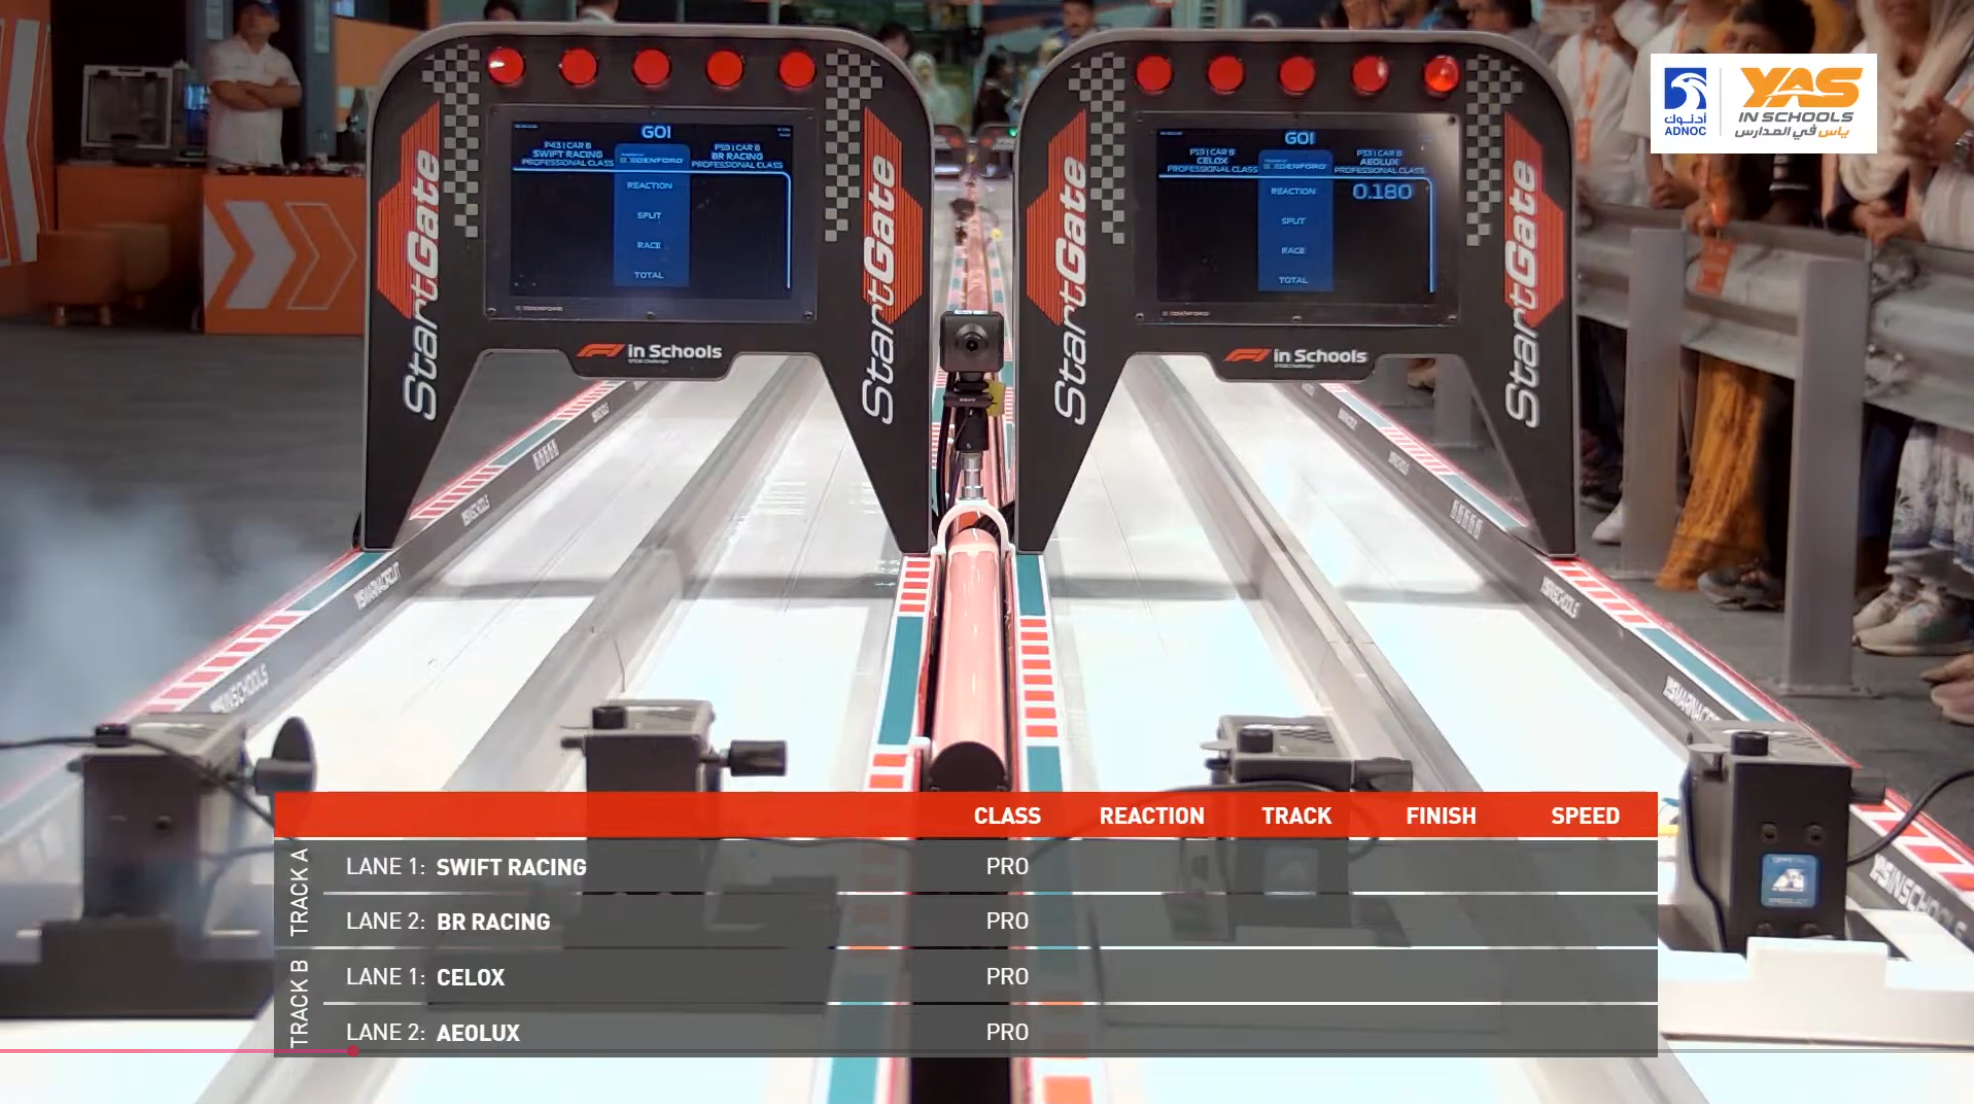Start: (365, 23, 937, 351), (1009, 28, 1575, 353)
